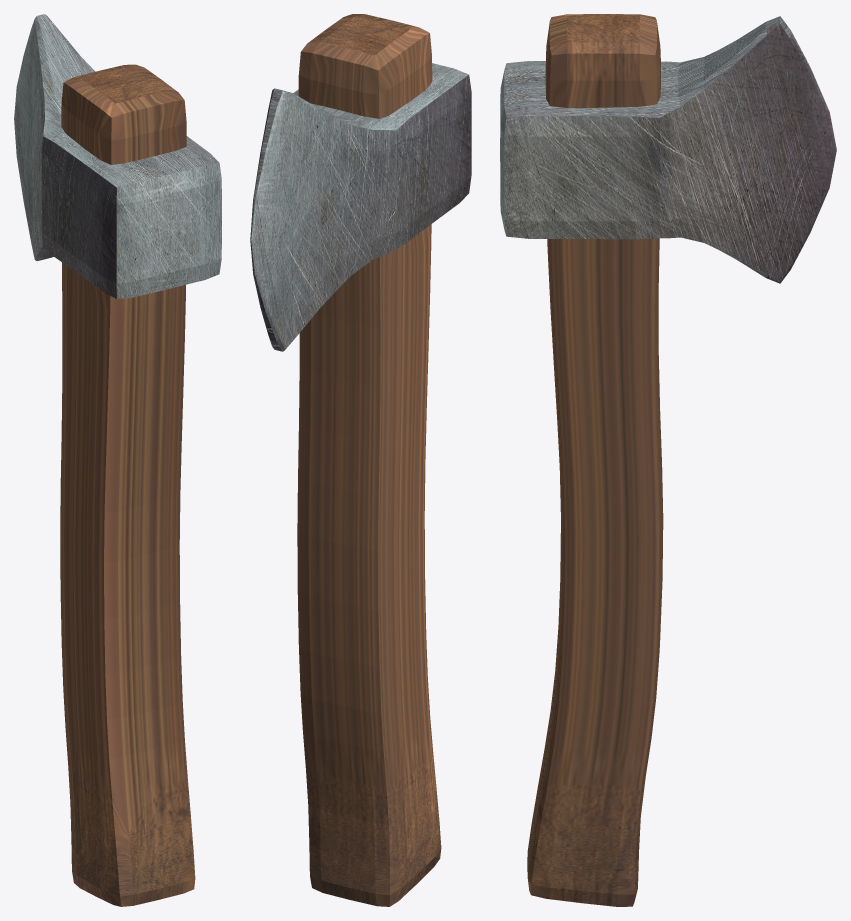
Rendered from axe.fbx.
3 views of the same model, side by side, from view 1: azimuth 30°, elevation 25°; view 2: azimuth 150°, elevation 25°; view 3: azimuth 270°, elevation 25° (orthographic). The views are drawn at different scales.
Visible parts, largest first — view 1: Cube, Cube.001; view 2: Cube, Cube.001; view 3: Cube, Cube.001.
Boxes of the visible parts, left/top/right/bottom form: Cube: left=60, top=64, right=195, bottom=906; Cube.001: left=14, top=14, right=221, bottom=299; Cube: left=297, top=14, right=441, bottom=906; Cube.001: left=250, top=63, right=471, bottom=351; Cube: left=527, top=14, right=663, bottom=906; Cube.001: left=500, top=16, right=836, bottom=283.
Size of the model in its own units: 60.07 by 418 by 146.
2 materials, 2 textured.
